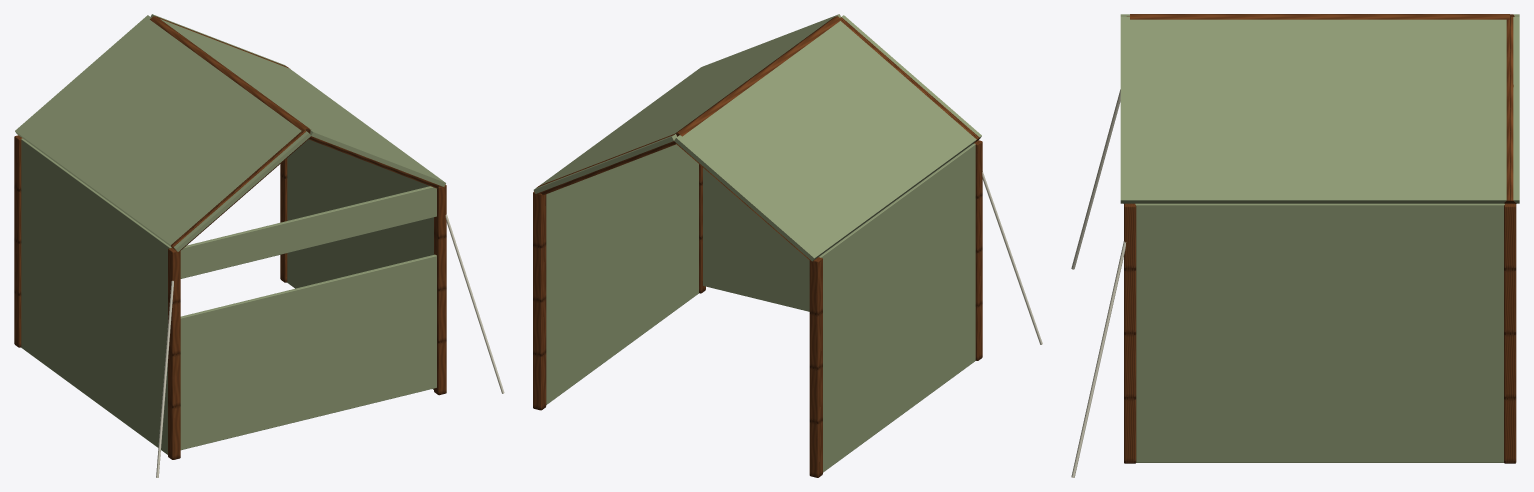
Rendered from prehistoric-expedition-sites-observation-hide-6af27f88__26117.glb.
3 renders of one model, left to right at view 1: azimuth 30°, elevation 25°; view 2: azimuth 150°, elevation 25°; view 3: azimuth 270°, elevation 25°, orthographic. The views are drawn at different scales.
Parts seen in each view (by area): view 1: observation-hide; view 2: observation-hide; view 3: observation-hide.
Part boxes in pixels (x1=…): observation-hide: x1=14, y1=14, x2=504, y2=477; observation-hide: x1=533, y1=14, x2=1042, y2=477; observation-hide: x1=1071, y1=14, x2=1519, y2=477.
Size of the model in its own units: 2.62 by 2.13 by 2.36.
3 materials, 1 textured.
